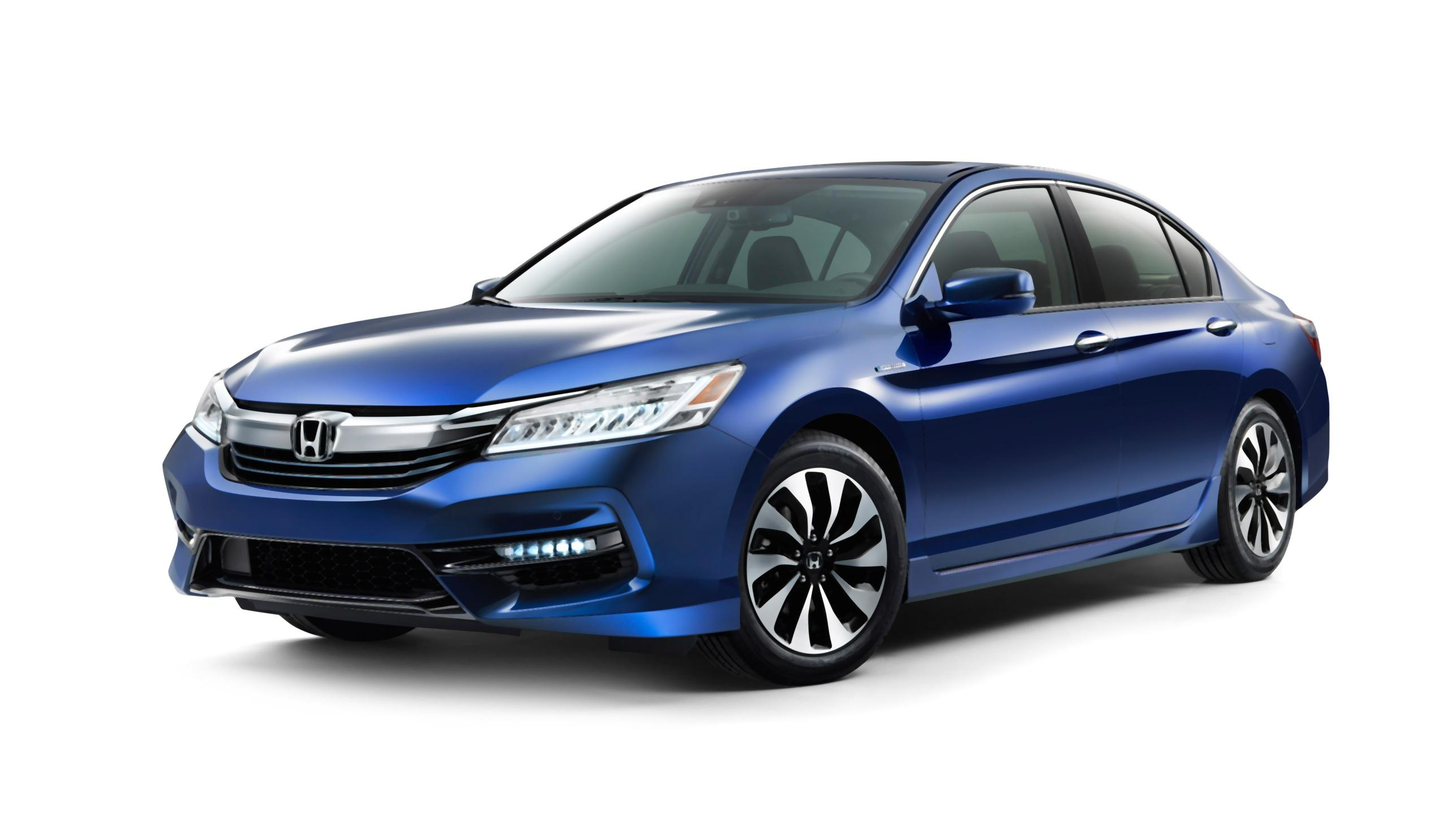Car hood: (223, 297, 842, 415)
Fender - -F-L-: (709, 281, 929, 596)
Fender - -R-L-: (1209, 291, 1303, 543)
Front bumper: (144, 446, 763, 656)
Headlight - -L-: (476, 350, 758, 466)
Headlight - -R-: (164, 342, 252, 453)
Passenger-s door - -F-L-: (915, 164, 1112, 574)
Passenger-s door - -R-L-: (1104, 187, 1263, 540)
Rear bumper: (1281, 381, 1349, 518)
Rear light - -L-: (1285, 305, 1336, 364)
Side bumper - -L-: (890, 500, 1235, 617)
Side mirror - -L-: (904, 257, 1050, 335)
Side mirror - -R-: (424, 266, 521, 310)
